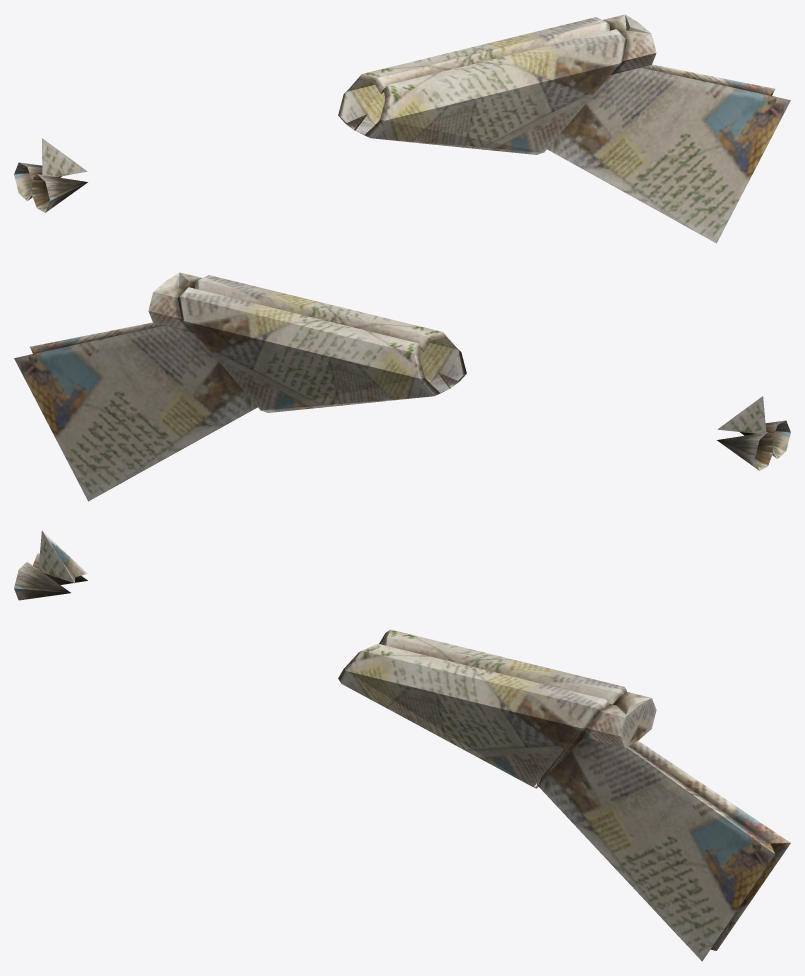
The model's file is Rabbit_paperGun.obj.
3 views of the same model, one above another, from view 1: azimuth 30°, elevation 25°; view 2: azimuth 150°, elevation 25°; view 3: azimuth 330°, elevation 25° (orthographic).
Parts seen in each view (by area): view 1: Rabbit_paperGun_tri; view 2: Rabbit_paperGun_tri; view 3: Rabbit_paperGun_tri.
Part boxes in pixels (x1,y1,x2,y2): Rabbit_paperGun_tri: [14, 14, 790, 243]; Rabbit_paperGun_tri: [14, 272, 790, 501]; Rabbit_paperGun_tri: [14, 530, 790, 961].
Bounding box in the file's own units: 0.5995 × 0.2009 × 0.0542.
Materials: 1 (1 with a texture image).
